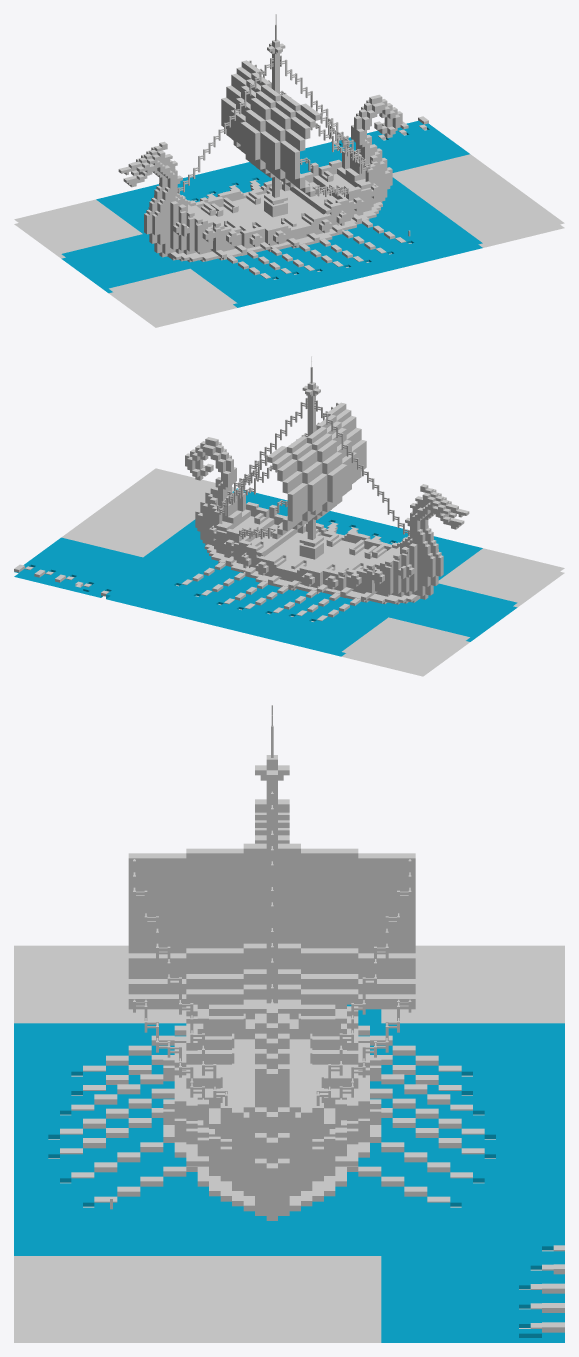
File: MC-Ship-Level.fbx
3 views of the same model, one above another, from view 1: azimuth 30°, elevation 25°; view 2: azimuth 150°, elevation 25°; view 3: azimuth 270°, elevation 25° (orthographic). The views are drawn at different scales.
Parts seen in each view (by area): view 1: Chunk 411.001, Chunk 200.001, Chunk 331.001, Chunk 446.001, Chunk 248.001, Chunk 505.001, Chunk 599.001, Chunk 273.001, Chunk 155.001, Chunk 357.001, Chunk 242.001, Chunk 546.001 (+10 smaller); view 2: Chunk 200.001, Chunk 357.001, Chunk 273.001, Chunk 446.001, Chunk 242.001, Chunk 295.001, Chunk 226.001, Chunk 155.001, Chunk 393.001, Chunk 501.001, Chunk 248.001, Chunk 546.001 (+10 smaller); view 3: Chunk 446.001, Chunk 242.001, Chunk 411.001, Chunk 546.001, Chunk 501.001, Chunk 599.001, Chunk 295.001, Chunk 505.001, Chunk 393.001, Chunk 226.001, Chunk 331.001, Chunk 155.001 (+9 smaller).
Boxes of the visible parts, x1,y1,x2,y2 form: Chunk 411.001: (275,182,400,287); Chunk 200.001: (61,192,189,293); Chunk 331.001: (191,226,318,307); Chunk 446.001: (318,134,435,228); Chunk 248.001: (109,268,237,327); Chunk 505.001: (354,208,482,267); Chunk 599.001: (436,188,564,247); Chunk 273.001: (143,187,267,268); Chunk 155.001: (14,199,142,258); Chunk 357.001: (226,157,353,230); Chunk 242.001: (230,67,334,180); Chunk 546.001: (392,154,517,208); Chunk 200.001: (389,535,517,641); Chunk 357.001: (225,501,352,597); Chunk 273.001: (306,529,412,617); Chunk 446.001: (143,476,269,577); Chunk 242.001: (232,415,353,528); Chunk 295.001: (178,527,306,636); Chunk 226.001: (260,590,387,656); Chunk 155.001: (342,617,469,676); Chunk 393.001: (96,557,224,616); Chunk 501.001: (14,537,142,596); Chunk 248.001: (438,548,564,607); Chunk 546.001: (61,503,189,557); Chunk 446.001: (197,1060,381,1255); Chunk 242.001: (197,832,381,1033); Chunk 411.001: (14,989,197,1182); Chunk 546.001: (197,1256,381,1342); Chunk 501.001: (381,1256,564,1342); Chunk 599.001: (14,1256,197,1342); Chunk 295.001: (381,994,564,1182); Chunk 505.001: (14,1156,197,1255); Chunk 393.001: (381,1176,564,1255); Chunk 226.001: (381,1023,564,1100); Chunk 331.001: (14,1006,197,1100); Chunk 155.001: (381,945,564,1023).
Bounding box in the file's own units: 8000 × 4400 × 4800.
